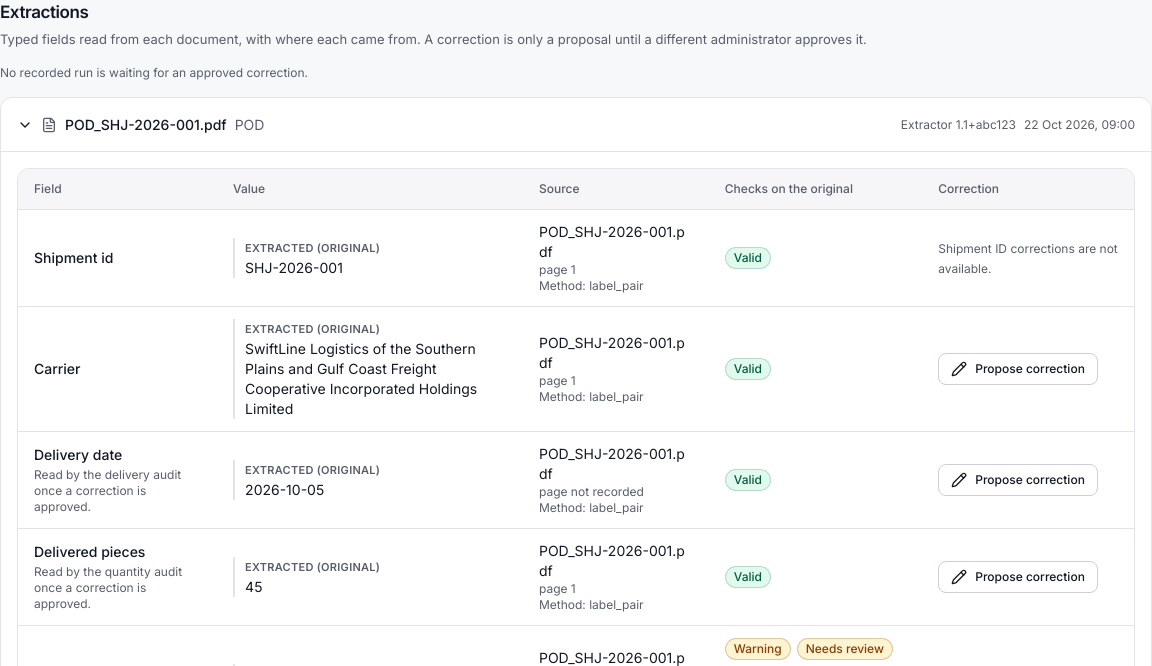
Test: proposing a correction › shows the server's validation message exactly and keeps the form
The image size is (1152, 666).
Expected: the text "Delivered pieces" is shown, [34,542,145,560]
Click the button with aria-label "Propose a correction for Delivered pieces" at [1018, 576], box [938,560,1098,592]
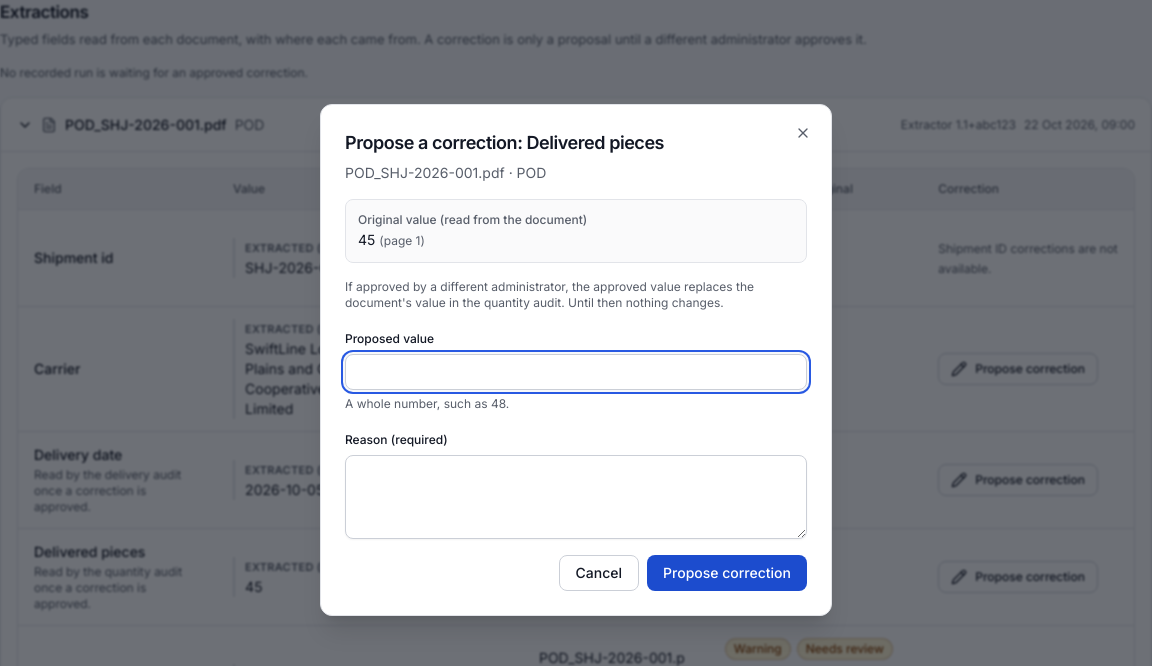
Type "forty" into the field labelled "Proposed value" at [576, 372], box [345,354,807,390]
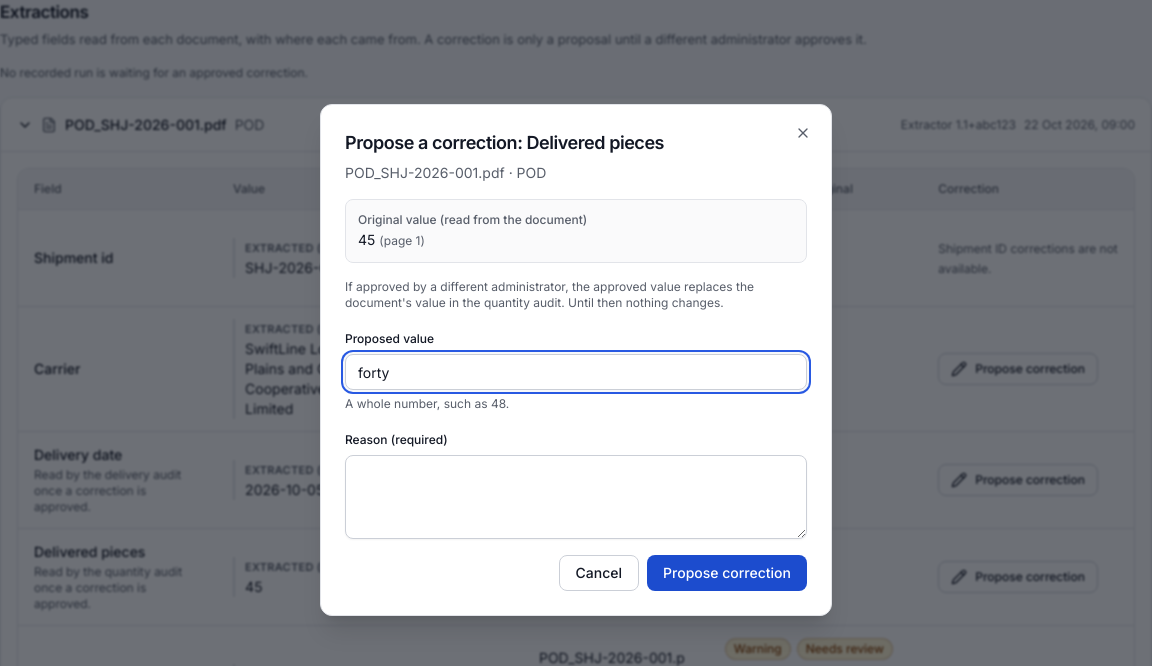
Type "The paper POD shows 48 pieces." into the text box labelled "Reason (required)" at [576, 497], box [345,455,807,539]
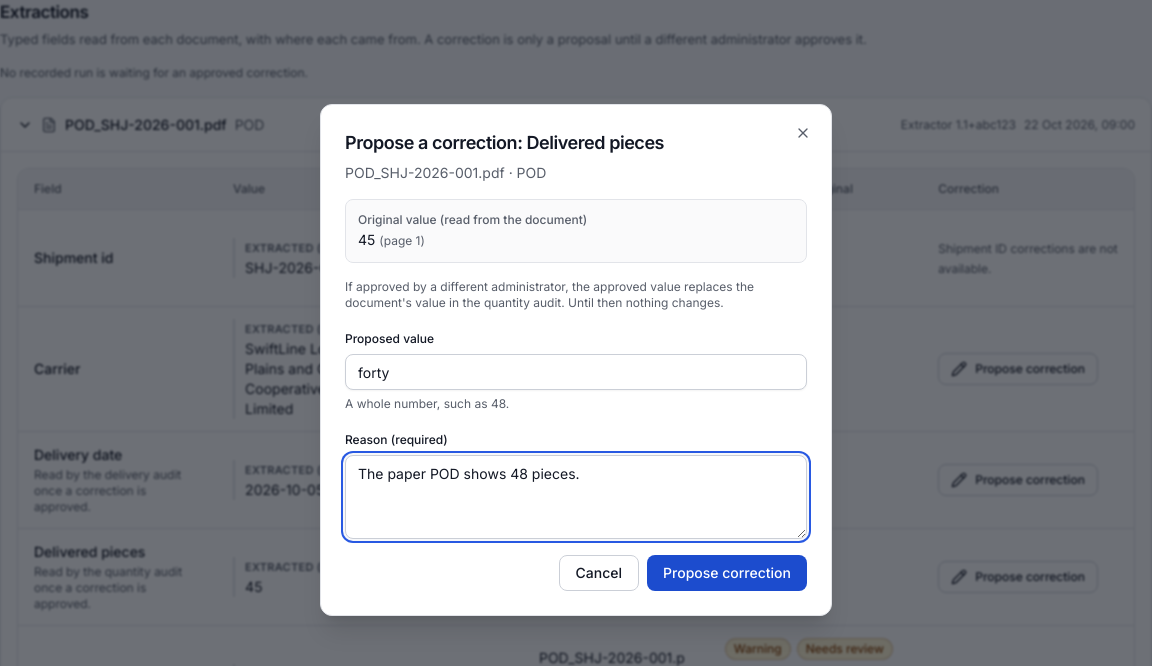
Click the button "Propose correction" at [727, 573], box [647,555,807,591]
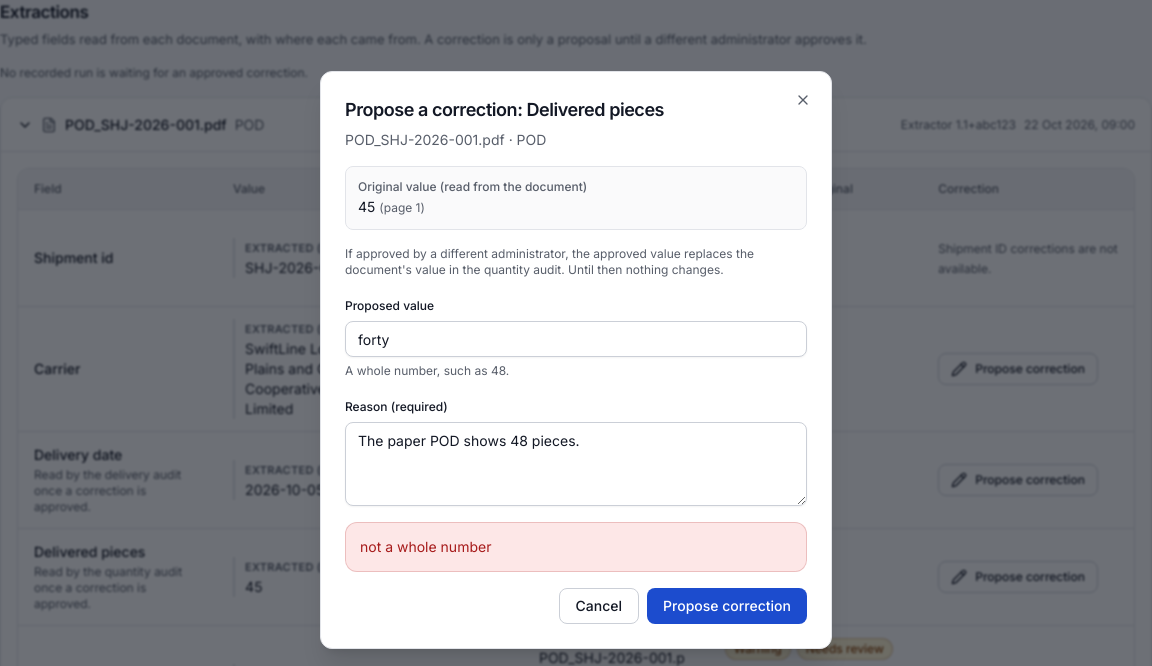
Expected: the button "Propose correction" is enabled, [647,588,807,624]
Expected: the text "not a whole number" is shown, [360,537,491,557]
